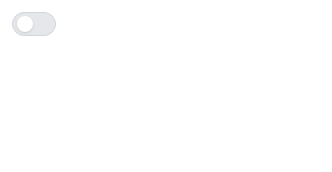
Test: AgentAccessSwitch › turning on flips at once, POSTs (the F5 WAF rejects PATCH), shows the note, no confirm dialog
Click the switch named "AgentHub Access".
click(34, 24)  # box [12, 12, 56, 36]
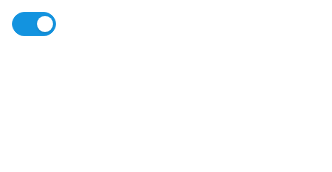
Check: the switch named "AgentHub Access" is checked, box [12, 12, 56, 36]
